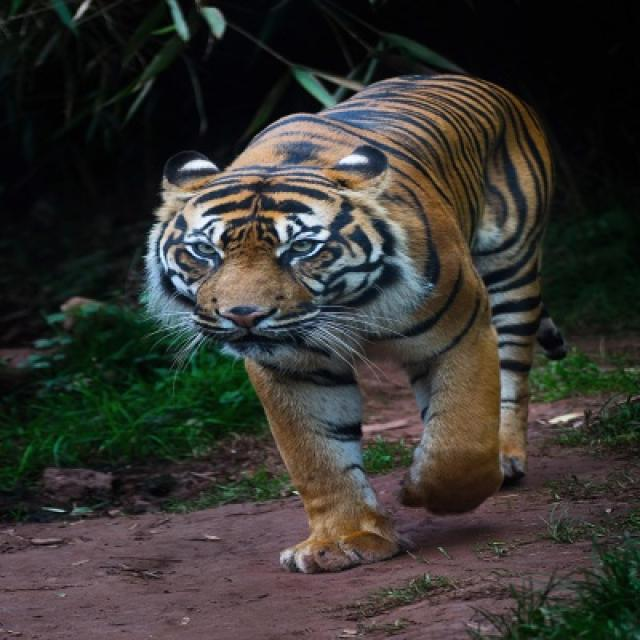Tiger: (151, 63, 559, 583)
